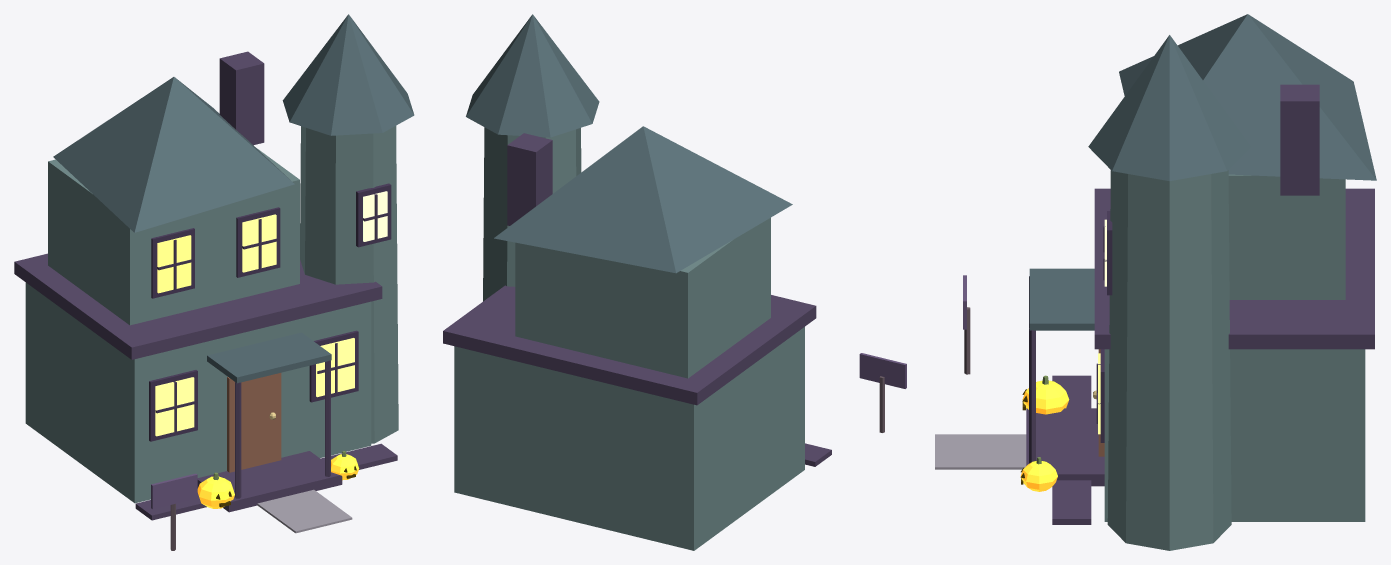
The model's file is haunted_mansion.glb.
3 views of the same model, side by side, from view 1: azimuth 30°, elevation 25°; view 2: azimuth 150°, elevation 25°; view 3: azimuth 270°, elevation 25° (orthographic). The views are drawn at different scales.
Parts seen in each view (by area): view 1: HauntedMansion, Door; view 2: HauntedMansion; view 3: HauntedMansion.
Boxes of the visible parts, x1,y1,x2,y2 form: HauntedMansion: (14,14,414,550); Door: (227,373,281,472); HauntedMansion: (443,14,906,550); HauntedMansion: (935,14,1376,550).
Bounding box in the file's own units: 7.22 × 8.3 × 6.78.
